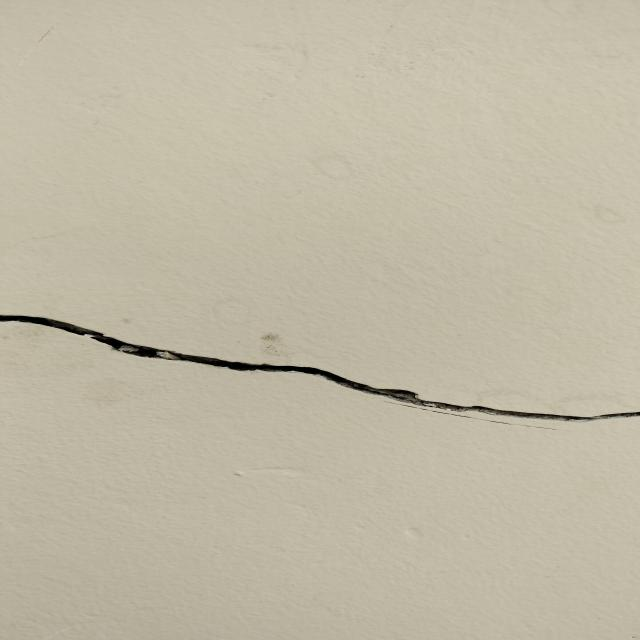Crack: (0, 310, 640, 421)
